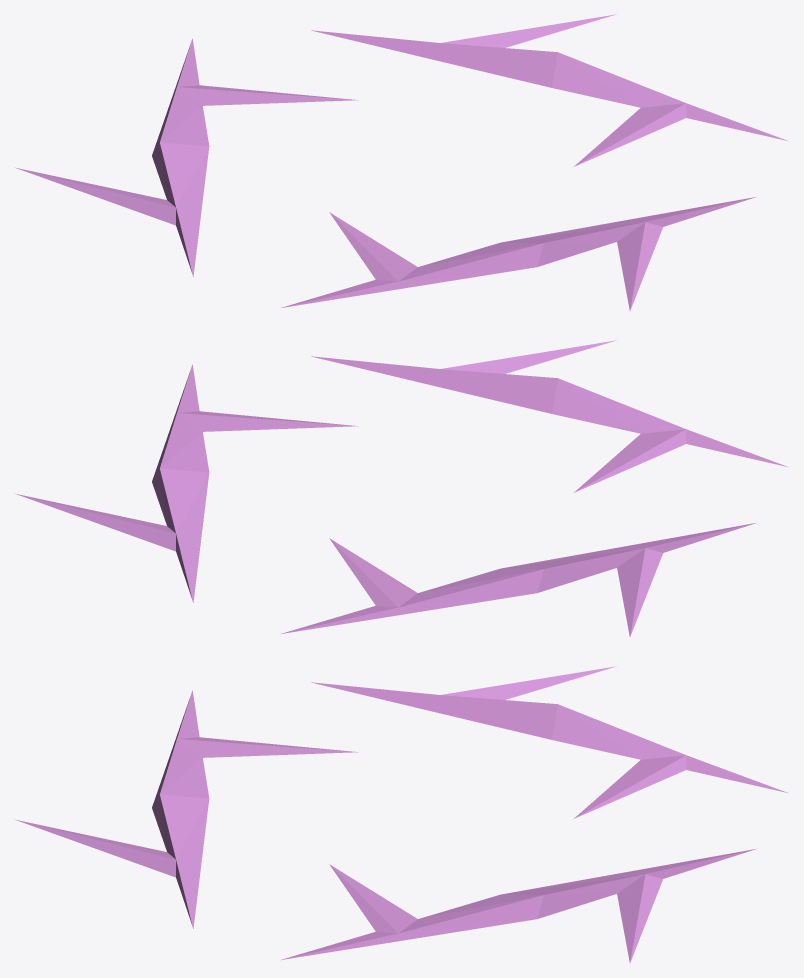
File: Haruka.fbx
3 views of the same model, one above another, from view 1: azimuth 30°, elevation 25°; view 2: azimuth 150°, elevation 25°; view 3: azimuth 270°, elevation 25° (orthographic).
Visible parts, largest first — view 1: Cube; view 2: Cube; view 3: Cube.
Part boxes in pixels (x1,y1,x2,y2): Cube: [15, 14, 788, 310]; Cube: [15, 340, 788, 636]; Cube: [15, 666, 788, 962].
Size of the model in its own units: 0.5231 by 0.0205 by 0.5765.
